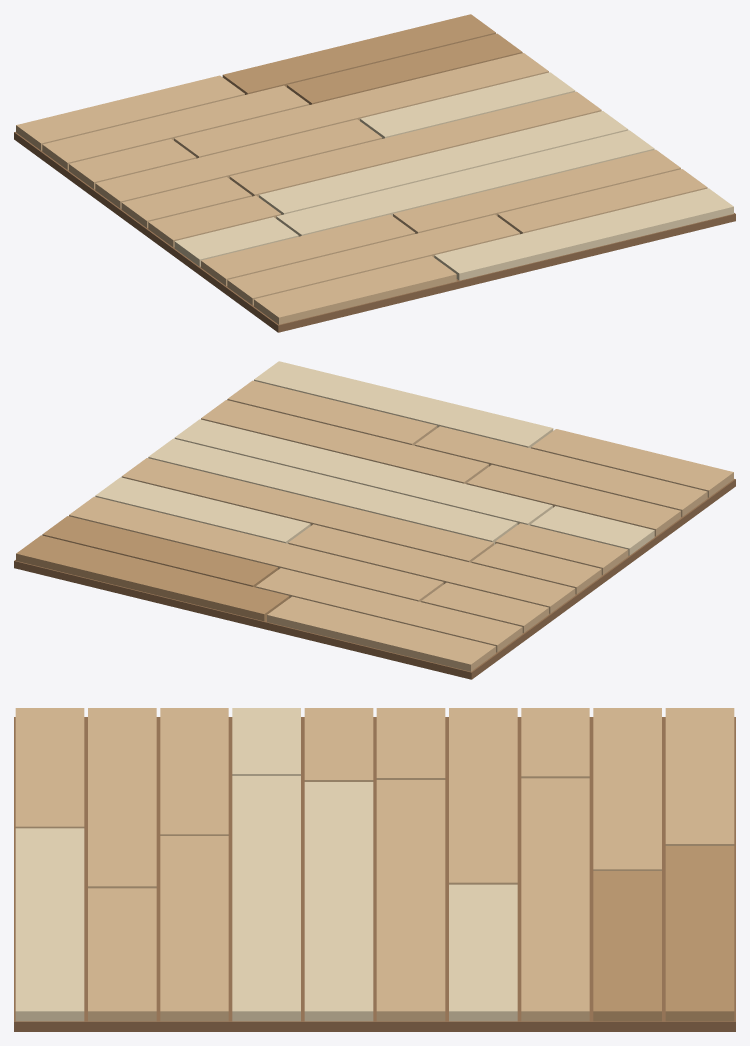
File: env_interior_floor_01.glb
3 views of the same model, one above another, from view 1: azimuth 30°, elevation 25°; view 2: azimuth 150°, elevation 25°; view 3: azimuth 270°, elevation 25° (orthographic). The views are drawn at different scales.
Parts seen in each view (by area): view 1: env_interior_floor_01_body; view 2: env_interior_floor_01_body; view 3: env_interior_floor_01_body.
Part boxes in pixels (<box>): env_interior_floor_01_body: <box>14,14,735,332</box>; env_interior_floor_01_body: <box>14,361,735,679</box>; env_interior_floor_01_body: <box>14,708,735,1031</box>.
Size of the model in its own units: 2 by 0.06 by 2.
